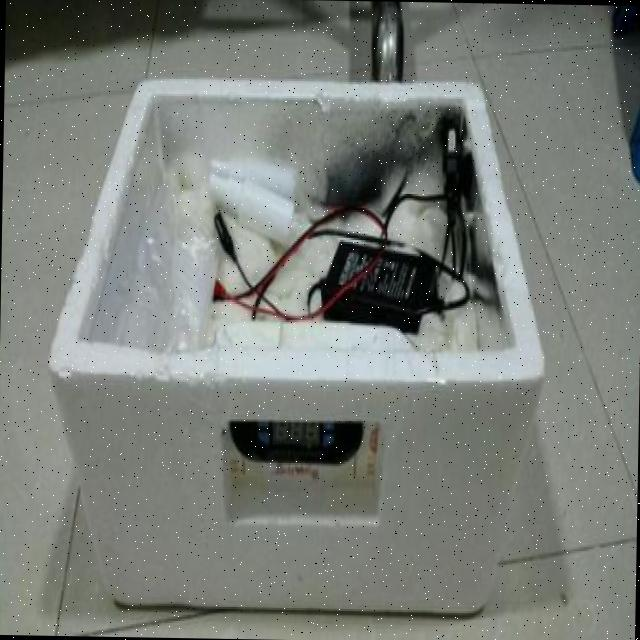styrofoam: (43, 70, 550, 618)
